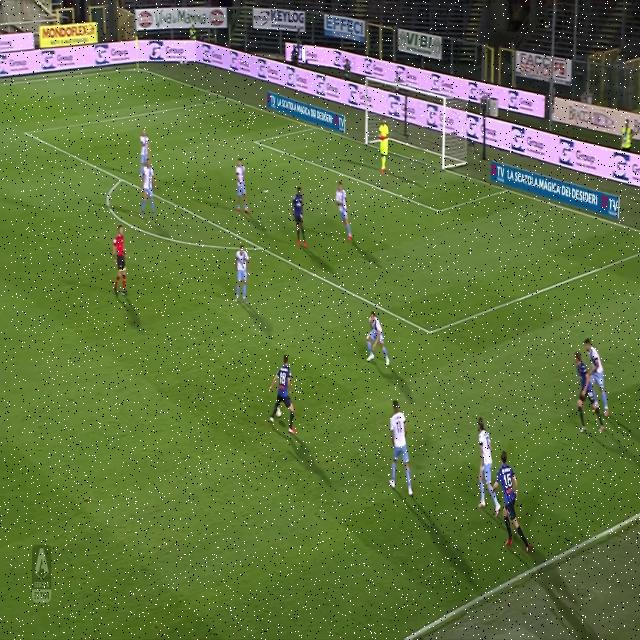Ball: (274, 400, 282, 424)
GoalKeeper: (377, 115, 394, 177)
TEAM 1: (471, 413, 504, 518), (387, 396, 415, 501), (582, 332, 610, 427), (364, 304, 394, 376), (332, 176, 354, 255), (234, 236, 252, 315), (138, 156, 160, 220), (234, 151, 252, 218), (136, 124, 152, 171)
TEAM 2: (570, 348, 604, 438), (272, 351, 297, 436), (291, 183, 310, 260)
